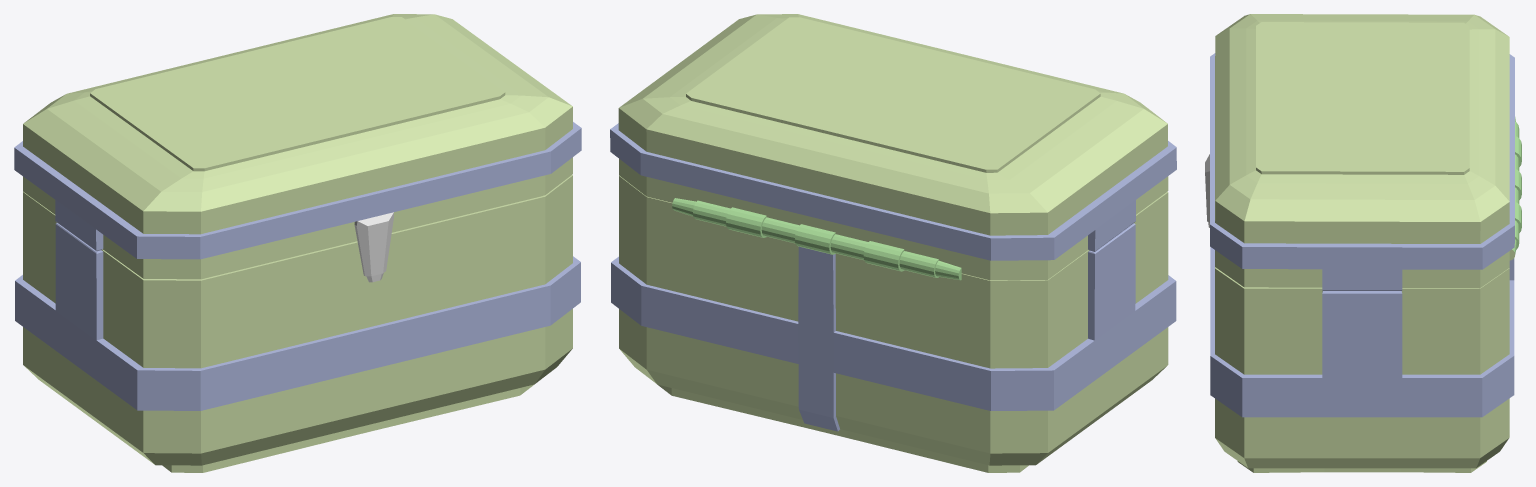
Rendered from Chest.fbx.
3 views of the same model, side by side, from view 1: azimuth 30°, elevation 25°; view 2: azimuth 150°, elevation 25°; view 3: azimuth 270°, elevation 25° (orthographic). The views are drawn at different scales.
Visible parts, largest first — view 1: Chest; view 2: Chest; view 3: Chest.
Part boxes in pixels (x1=…): Chest: x1=14, y1=14, x2=581, y2=472; Chest: x1=610, y1=14, x2=1176, y2=472; Chest: x1=1205, y1=14, x2=1521, y2=472.
Bounding box in the file's own units: 342 × 217 × 215.
